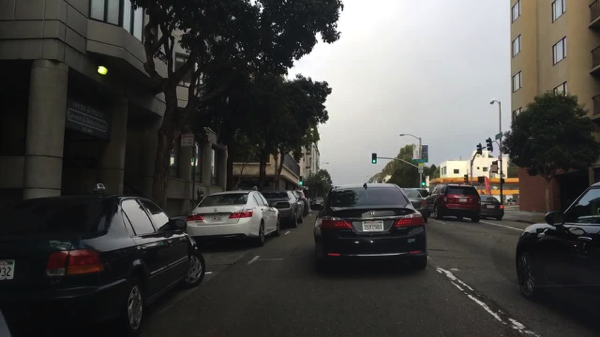car: (1, 183, 206, 335), (513, 183, 599, 312), (308, 183, 426, 271), (185, 188, 281, 246), (425, 184, 480, 223), (262, 190, 299, 225), (401, 187, 426, 222), (479, 195, 503, 222), (292, 191, 304, 222), (297, 191, 309, 218), (310, 196, 324, 209), (417, 188, 432, 197)
traffic light: (475, 143, 482, 156), (485, 139, 491, 154), (491, 162, 496, 177), (297, 175, 303, 186), (462, 173, 468, 184), (372, 152, 376, 166), (418, 180, 425, 187)
traffic sign: (417, 162, 424, 174), (412, 158, 428, 162)
